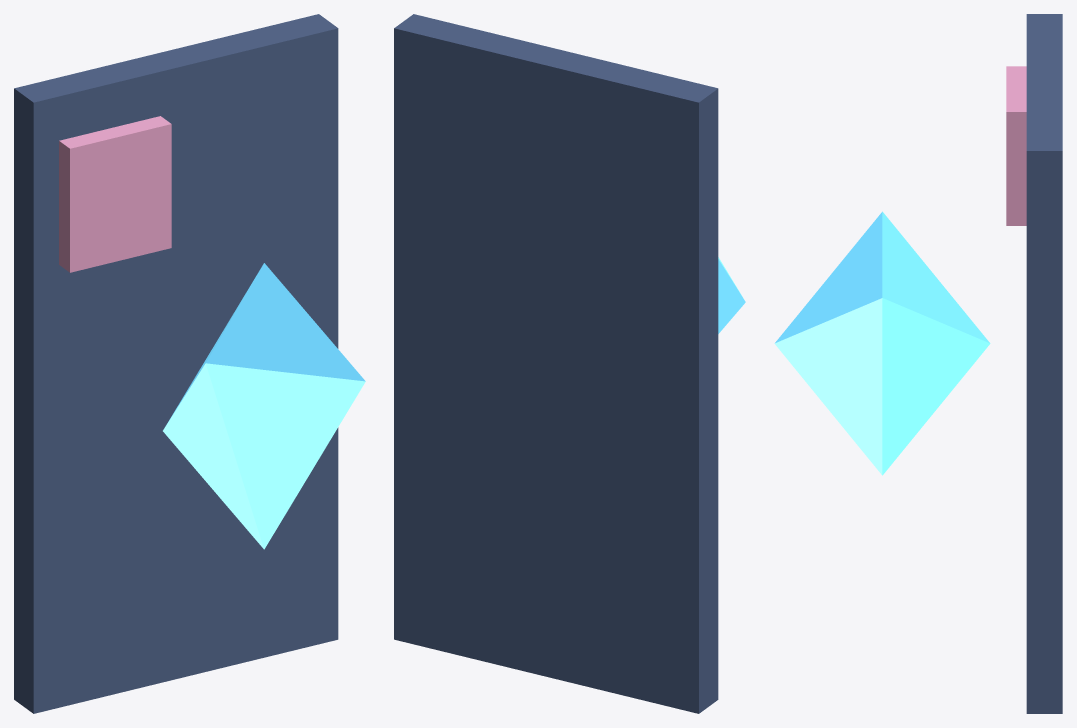
The model's file is demo-model.glb.
The picture shows the model from 3 angles, left to right: view 1: azimuth 30°, elevation 25°; view 2: azimuth 150°, elevation 25°; view 3: azimuth 270°, elevation 25°; orthographic projection. The views are drawn at different scales.
Parts seen in each view (by area): view 1: PhoneCaseBody, FloatingGem, CameraModule; view 2: PhoneCaseBody, FloatingGem; view 3: FloatingGem, PhoneCaseBody, CameraModule.
Part boxes in pixels (bbox=[...]): PhoneCaseBody: bbox=[14, 14, 338, 713]; FloatingGem: bbox=[163, 263, 365, 549]; CameraModule: bbox=[59, 116, 171, 272]; PhoneCaseBody: bbox=[394, 14, 718, 713]; FloatingGem: bbox=[718, 257, 745, 333]; FloatingGem: bbox=[774, 211, 990, 475]; PhoneCaseBody: bbox=[1026, 14, 1062, 713]; CameraModule: bbox=[1006, 66, 1026, 225].
Size of the model in its own units: 0.72 by 1.38 by 0.64.
